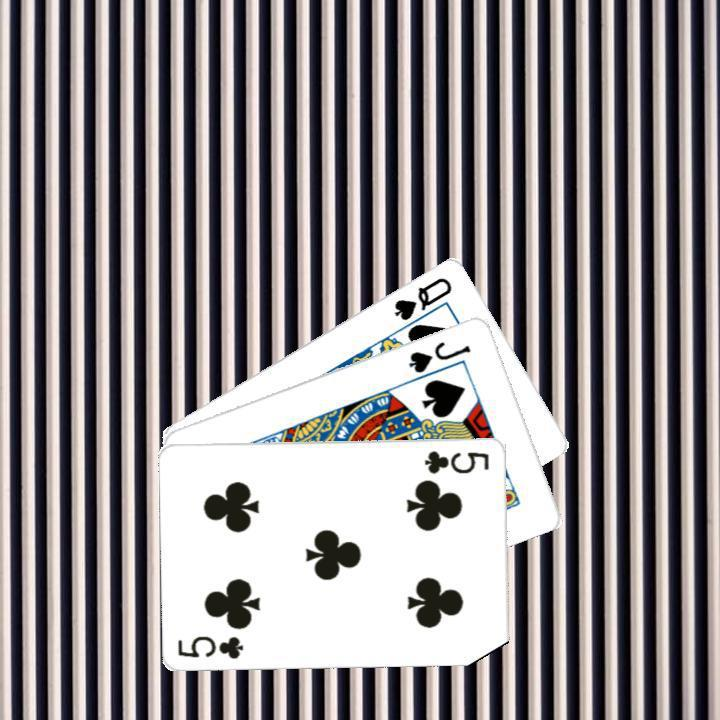5: (174, 630, 246, 661), (421, 446, 492, 475)
J: (404, 336, 473, 375)
Q: (389, 272, 455, 322)
